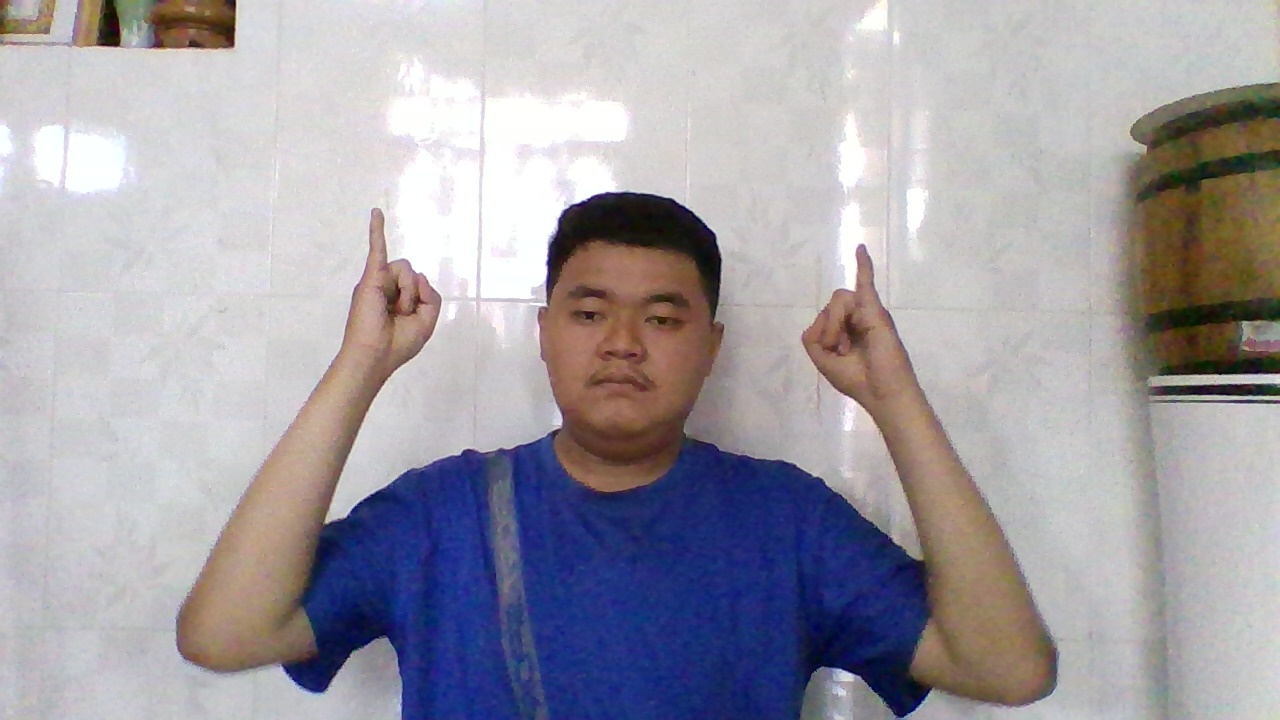I: (790, 232, 894, 407), (355, 196, 452, 372)
